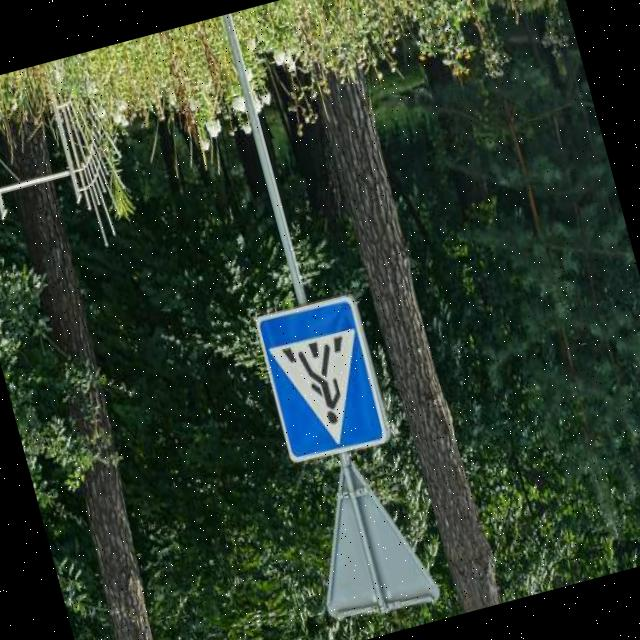crosswalk: (226, 276, 404, 485)
